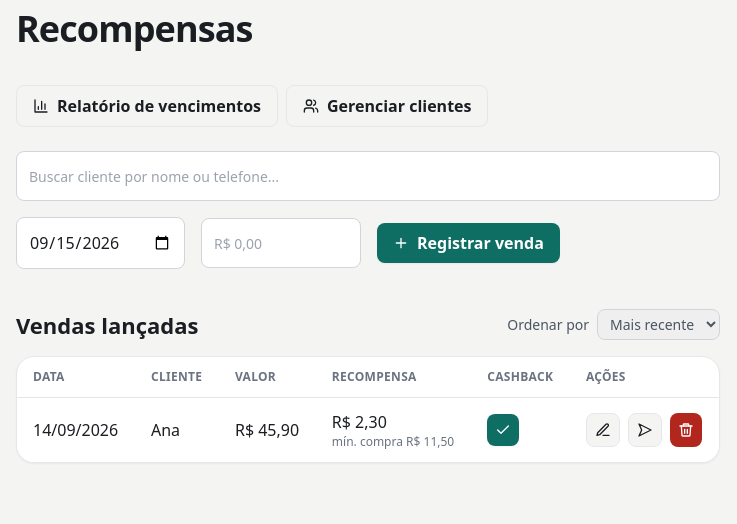
Test: RecompensasPage › shows an error and keeps the row when removing a sale fails
expect the text "Ana" is shown: met, box [135,398,219,462]
What coordinates should you click on to do the following:
click the button named "Remover"
I would click on:
 (686, 430)
Its box is [670,413,702,447].
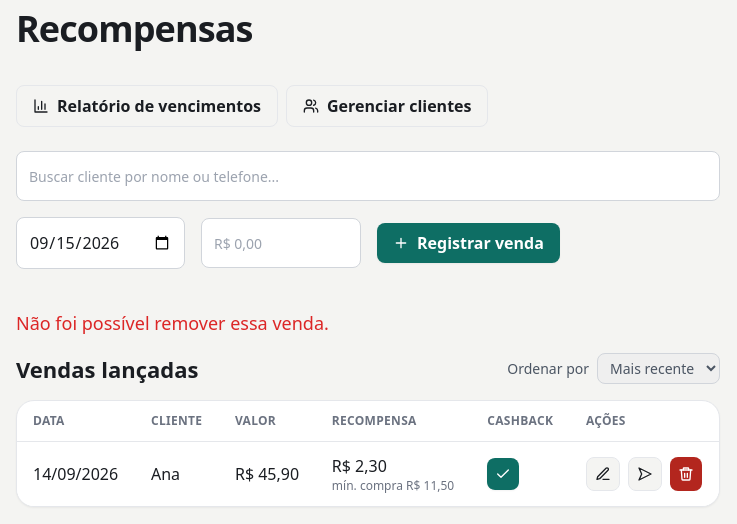
expect the text "Ana" is shown: met, box [135,442,219,506]
expect the text "Não foi possível remover essa venda." is shown: met, box [16,311,329,335]
